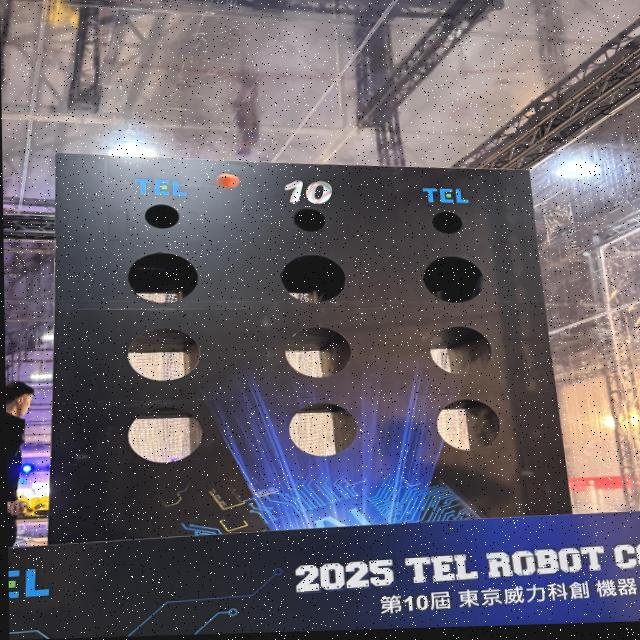hole: (128, 406, 201, 464), (128, 327, 201, 382), (287, 401, 358, 457), (128, 251, 199, 305), (285, 325, 351, 378), (436, 398, 500, 451), (429, 325, 493, 376), (282, 253, 347, 303), (424, 255, 485, 303), (145, 203, 179, 229), (294, 207, 327, 231), (433, 212, 463, 234)
